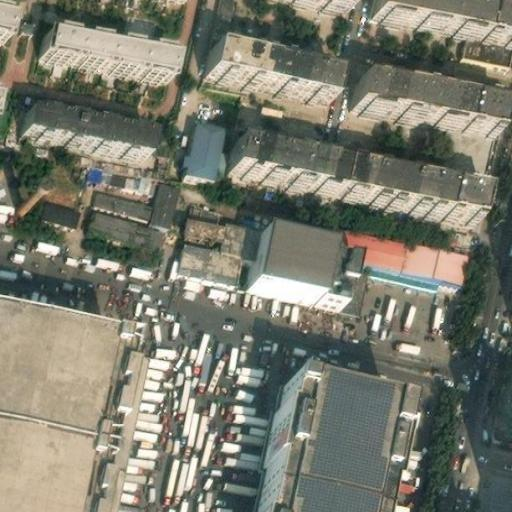building: (226, 139, 478, 218), (255, 381, 399, 512), (334, 222, 470, 307), (352, 75, 497, 129), (249, 222, 345, 302), (20, 105, 153, 159), (39, 22, 175, 73), (204, 43, 331, 97), (178, 207, 261, 278), (370, 0, 512, 39), (88, 205, 168, 245), (181, 111, 226, 172), (456, 30, 512, 68), (94, 186, 154, 214), (151, 174, 181, 219), (42, 194, 81, 222), (0, 0, 24, 38)
